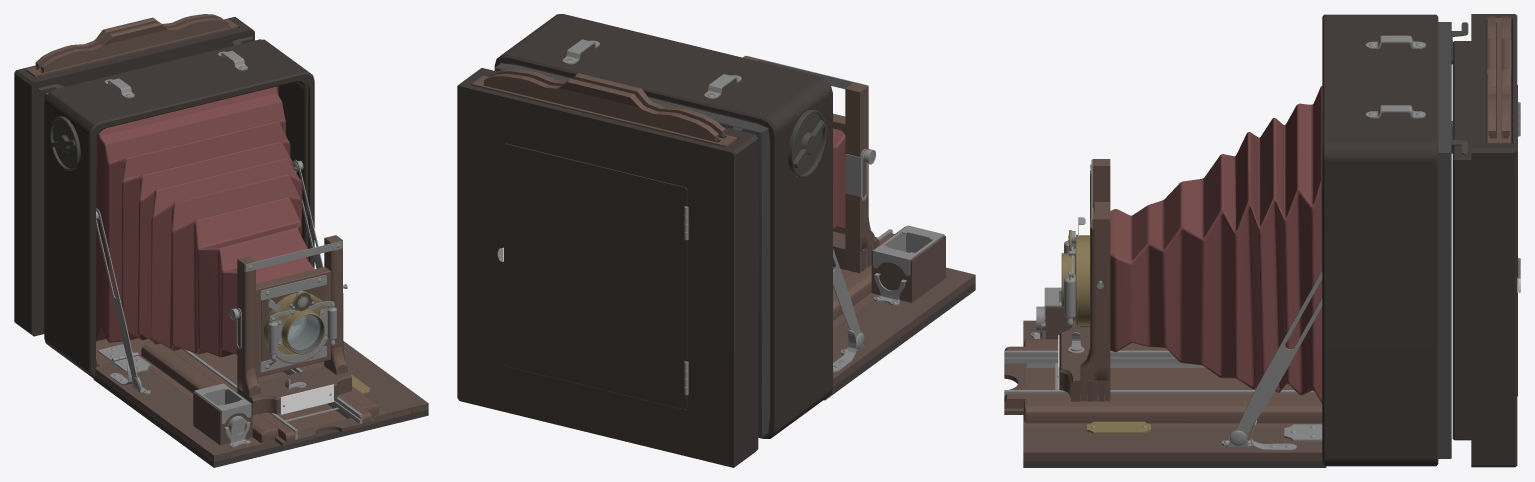
File: demo_camera.glb
3 views of the same model, side by side, from view 1: azimuth 30°, elevation 25°; view 2: azimuth 150°, elevation 25°; view 3: azimuth 270°, elevation 25° (orthographic). The views are drawn at different scales.
Visible parts, largest first — view 1: camera_body.001, camera_back.001, cam_platesleeve1.001, cam_platesleeve.001, cam_plateholder.001; view 2: camera_back.001, camera_body.001, cam_platesleeve.001, cam_platesleeve1.001, cam_plateholder.001; view 3: camera_body.001, camera_back.001, cam_plateholder.001, cam_platesleeve.001, cam_platesleeve1.001.
Boxes of the visible parts, bbox=[...] form: camera_body.001: bbox=[38, 37, 428, 467]; camera_back.001: bbox=[14, 17, 254, 336]; cam_platesleeve1.001: bbox=[41, 18, 228, 72]; cam_platesleeve.001: bbox=[35, 14, 223, 69]; cam_plateholder.001: bbox=[26, 19, 238, 77]; camera_back.001: bbox=[457, 68, 758, 467]; camera_body.001: bbox=[494, 14, 975, 438]; cam_platesleeve.001: bbox=[484, 73, 718, 142]; cam_platesleeve1.001: bbox=[490, 68, 725, 138]; cam_plateholder.001: bbox=[471, 75, 737, 147]; camera_body.001: bbox=[1004, 14, 1468, 467]; camera_back.001: bbox=[1452, 14, 1520, 467]; cam_plateholder.001: bbox=[1487, 18, 1510, 143]; cam_platesleeve.001: bbox=[1502, 16, 1511, 138]; cam_platesleeve1.001: bbox=[1487, 16, 1495, 138].
Size of the model in its own units: 8.8 by 10.11 by 13.59.
